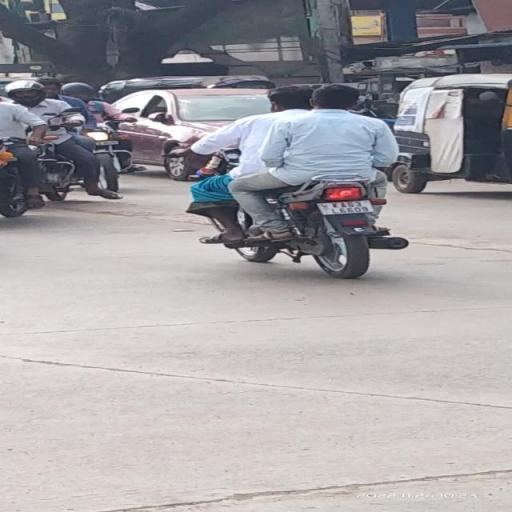bike: (162, 82, 422, 282)
numberplate: (317, 197, 375, 217)
withouthelmet: (268, 86, 312, 112), (312, 86, 359, 110)
